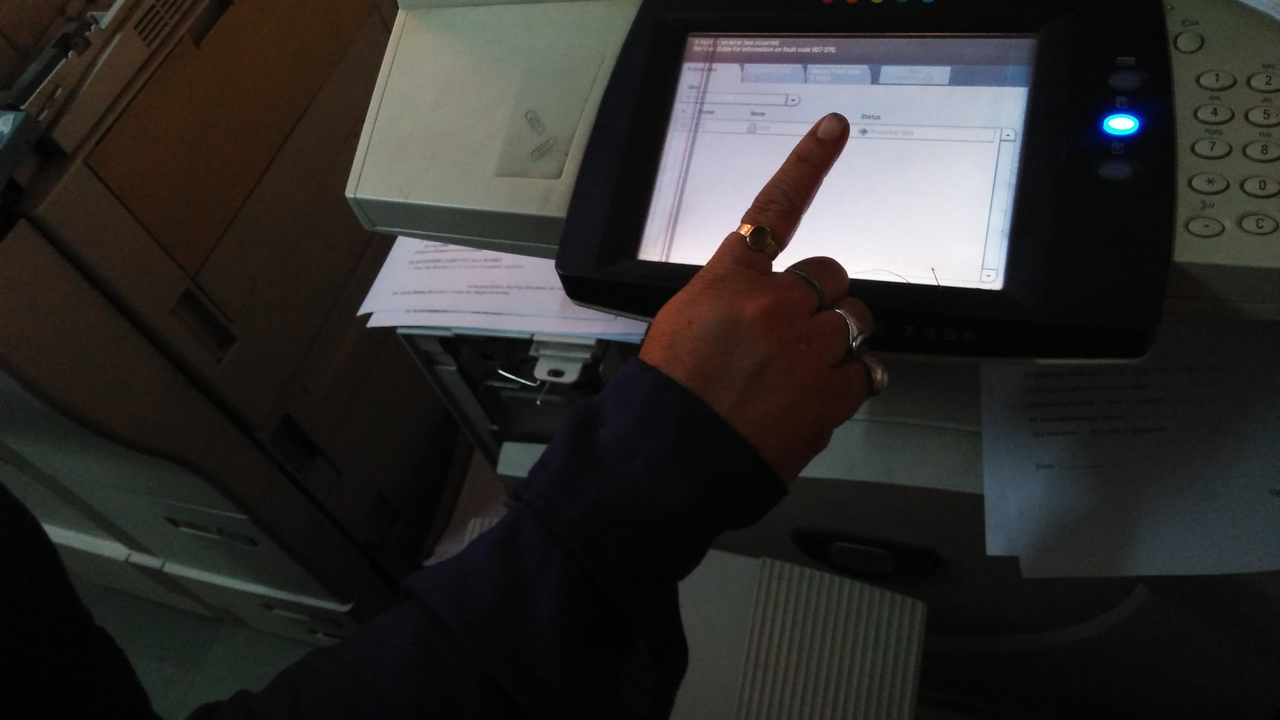fingertip: (800, 102, 856, 150)
